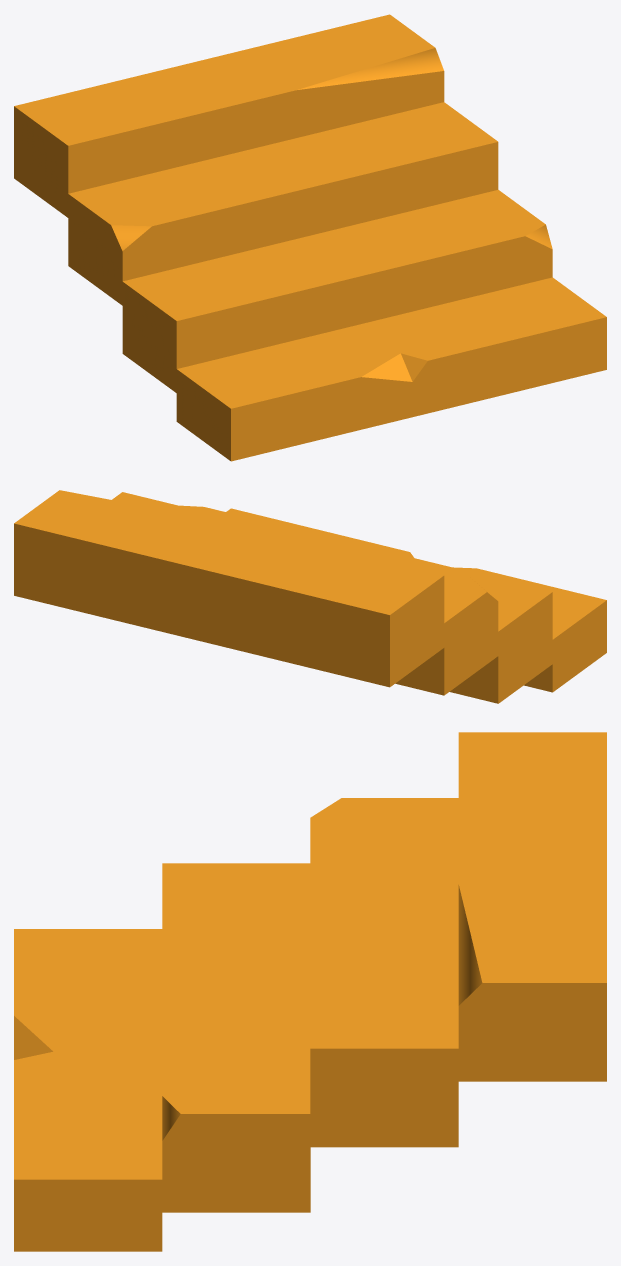
File: SM_Buildings_Stairs_1x1_02P.fbx
The picture shows the model from 3 angles, top to bottom: view 1: azimuth 30°, elevation 25°; view 2: azimuth 150°, elevation 25°; view 3: azimuth 270°, elevation 25°; orthographic projection. The views are drawn at different scales.
Parts seen in each view (by area): view 1: SM_Buildings_Stairs_1x1_02P; view 2: SM_Buildings_Stairs_1x1_02P; view 3: SM_Buildings_Stairs_1x1_02P.
Part boxes in pixels (x1,y1,x2,y2): SM_Buildings_Stairs_1x1_02P: (14, 14, 606, 461); SM_Buildings_Stairs_1x1_02P: (14, 490, 606, 703); SM_Buildings_Stairs_1x1_02P: (14, 732, 606, 1251).
Bounding box in the file's own units: 100 × 49.95 × 100.
